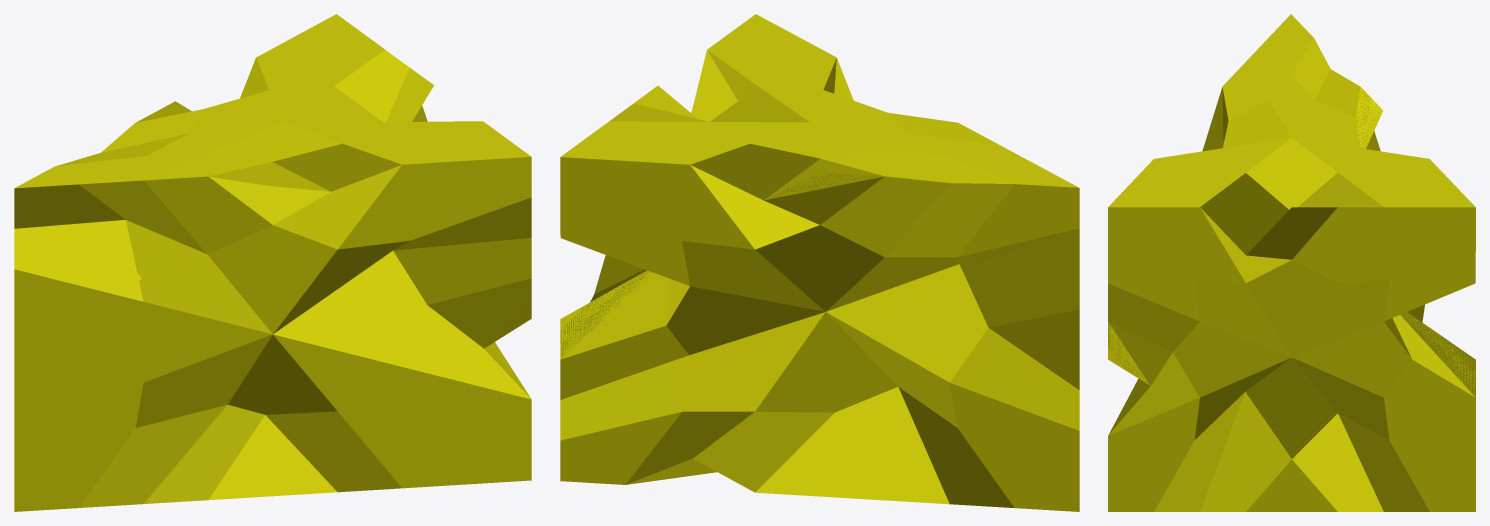
File: fromage.fbx
3 views of the same model, side by side, from view 1: azimuth 30°, elevation 25°; view 2: azimuth 150°, elevation 25°; view 3: azimuth 270°, elevation 25° (orthographic). The views are drawn at different scales.
Visible parts, largest first — view 1: fromage; view 2: fromage; view 3: fromage.
Boxes of the visible parts, x1,y1,x2,y2 form: fromage: (14,14,531,511); fromage: (560,14,1079,511); fromage: (1108,14,1475,511).
Bounding box in the file's own units: 1.39 × 1.02 × 1.11.
